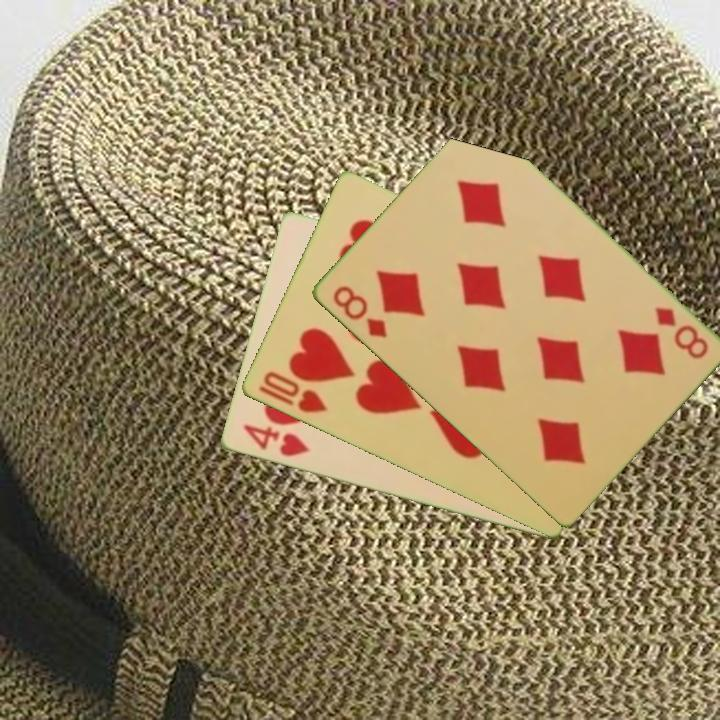10h: (254, 368, 330, 417)
4h: (239, 421, 312, 460)
8d: (328, 282, 390, 341), (650, 303, 711, 362)
